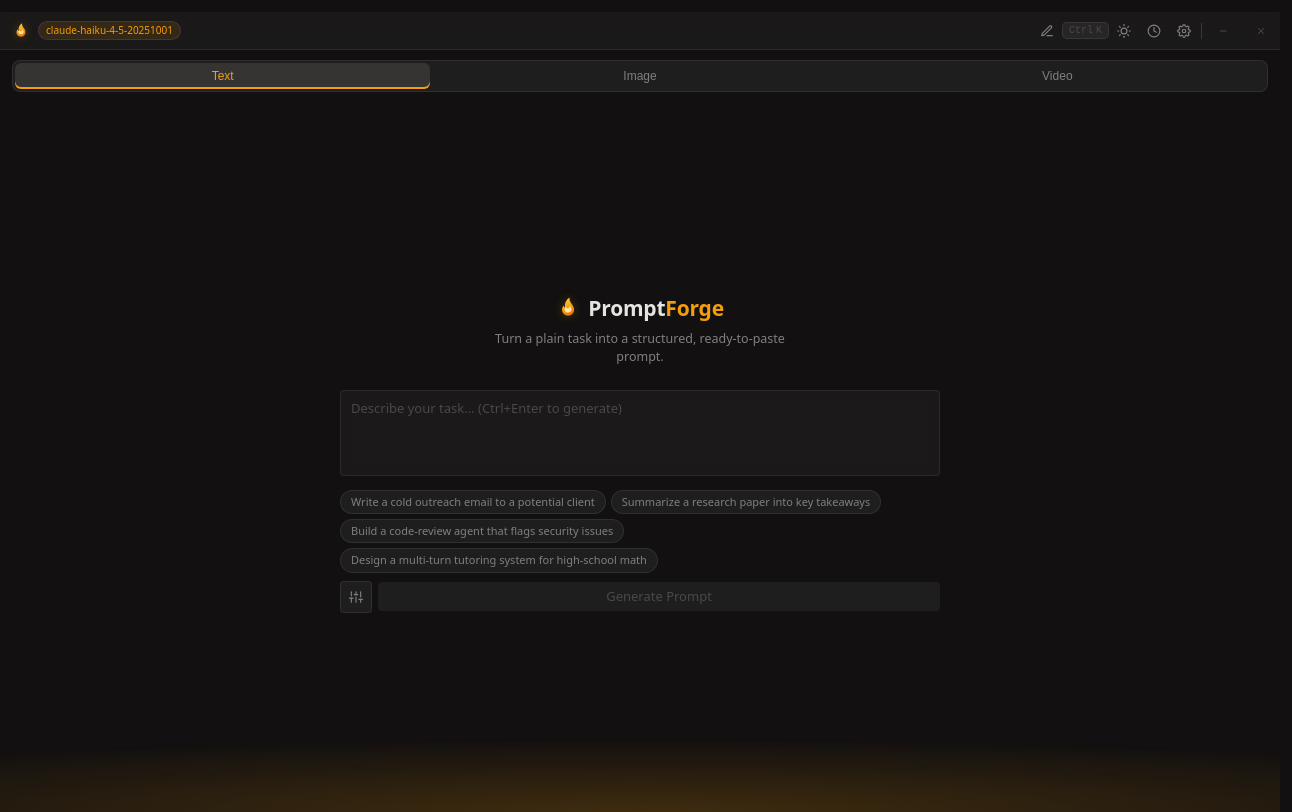
Test: App — Main view › shows the assembled prompt after a successful generation
Type "some task" into the text box with placeholder "Describe your task... (Ctrl+Enter to generate)" at (640, 433), box 340,390 -> 940,476
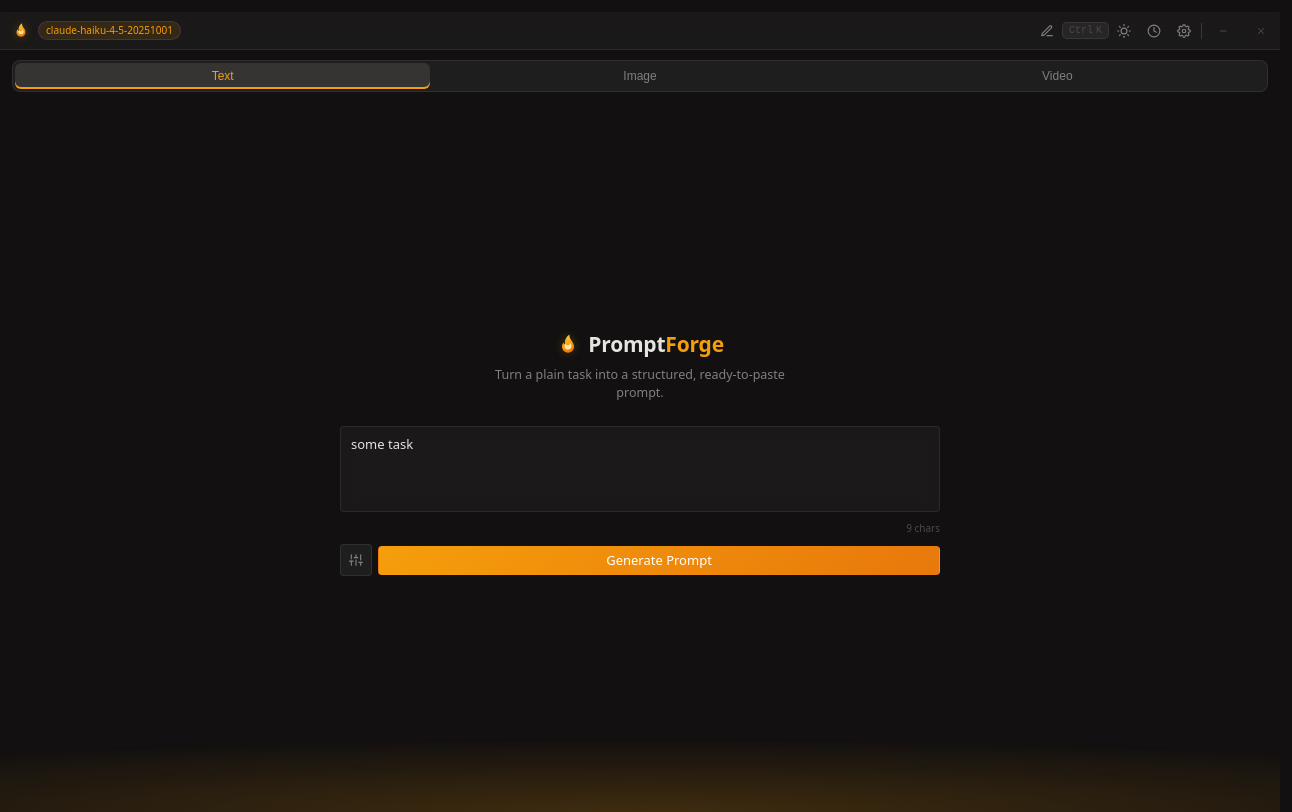
Click the button "Generate Prompt" at (659, 560), box 378,546 -> 940,575
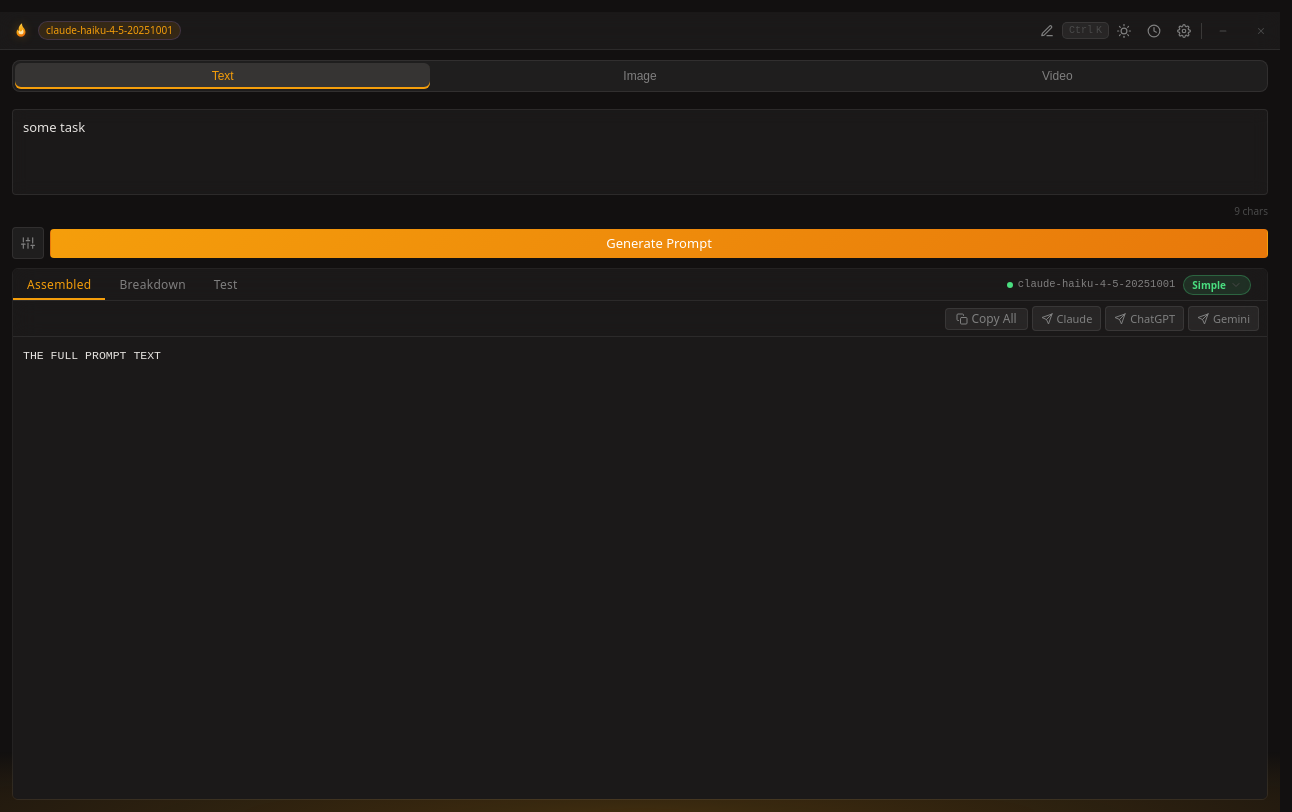
expect the text "THE FULL PROMPT TEXT" is shown: met, box 13,337 -> 1267,799
